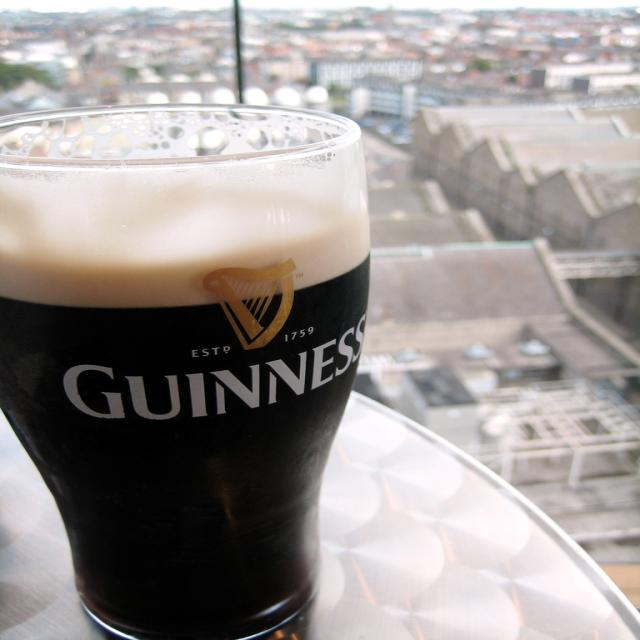guiness: (58, 257, 368, 425)
